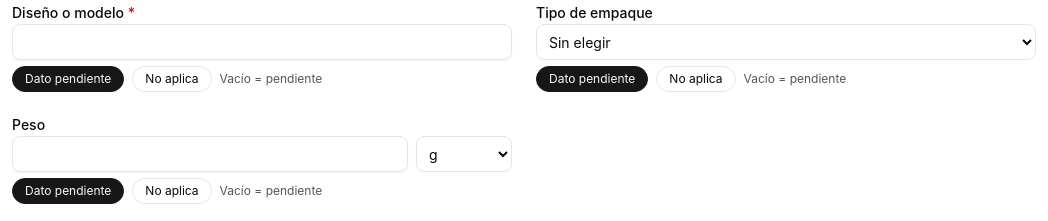
Scenario: SpecForm › "No aplica" blocks the field; a value takes the pills out of play
Click the button "No aplica" below "Diseño o modelo".
click(172, 79)  # box [132,66,212,92]
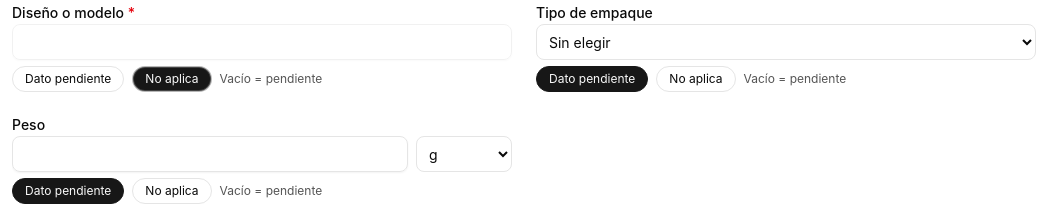
Now the button "No aplica" below "Diseño o modelo" is pressed
Click the button "No aplica" below "Diseño o modelo".
click(172, 79)  # box [132,66,212,92]
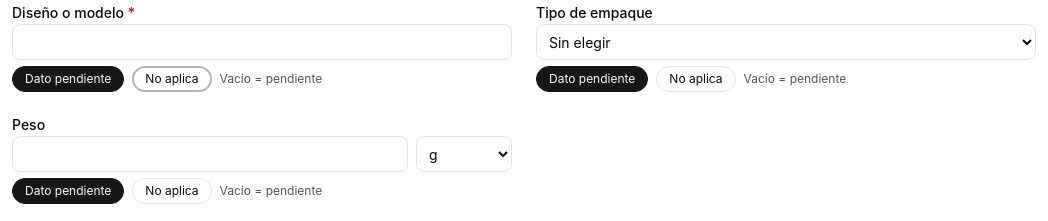
Type "Liso" into the field labelled "Diseño o modelo *".
click(262, 42); type("Liso")  # box [12,24,512,60]
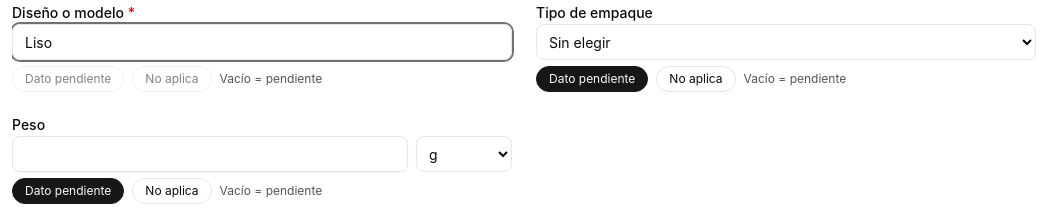
Now the button "No aplica" below "Diseño o modelo" is disabled, box [132,66,212,92]
